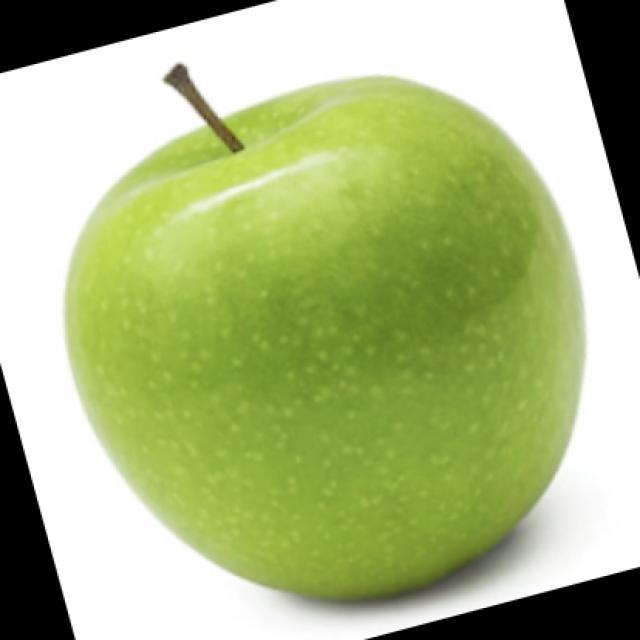Fresh Apple: (50, 82, 603, 578)
